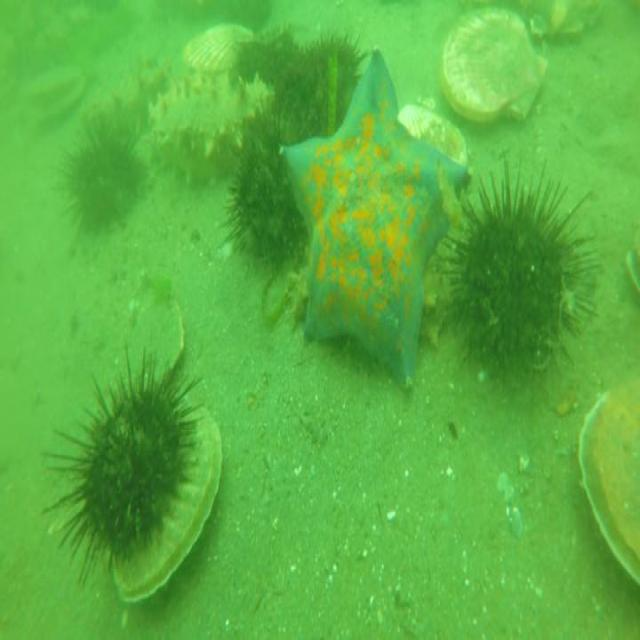echinus: (39, 346, 205, 588), (442, 161, 601, 392), (60, 108, 146, 246), (229, 112, 304, 270), (276, 23, 369, 148), (235, 27, 305, 104)
holothurian: (284, 252, 458, 344), (148, 81, 273, 191), (100, 47, 172, 133)
scallop: (116, 398, 227, 610), (575, 341, 640, 602), (439, 5, 550, 128), (396, 101, 471, 176), (183, 17, 258, 76), (26, 63, 90, 125)
starfish: (278, 47, 470, 381)
